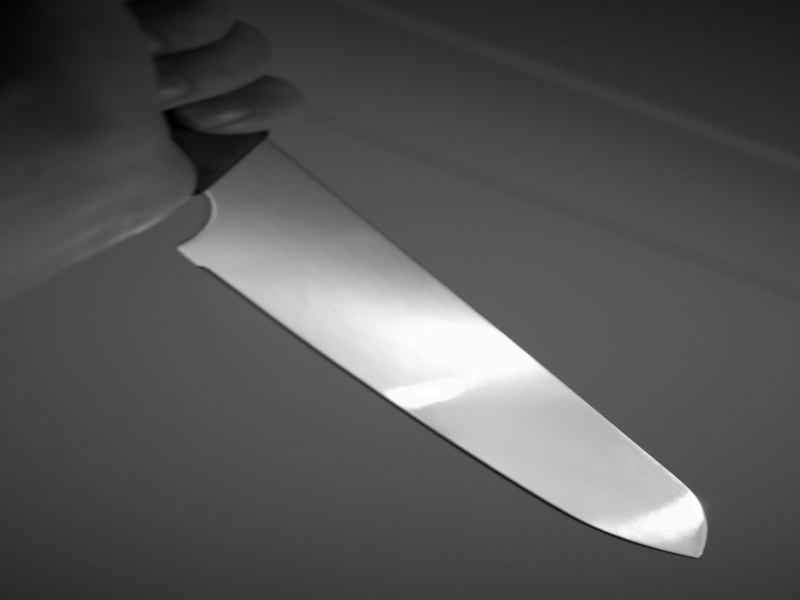knife: (130, 1, 712, 561)
